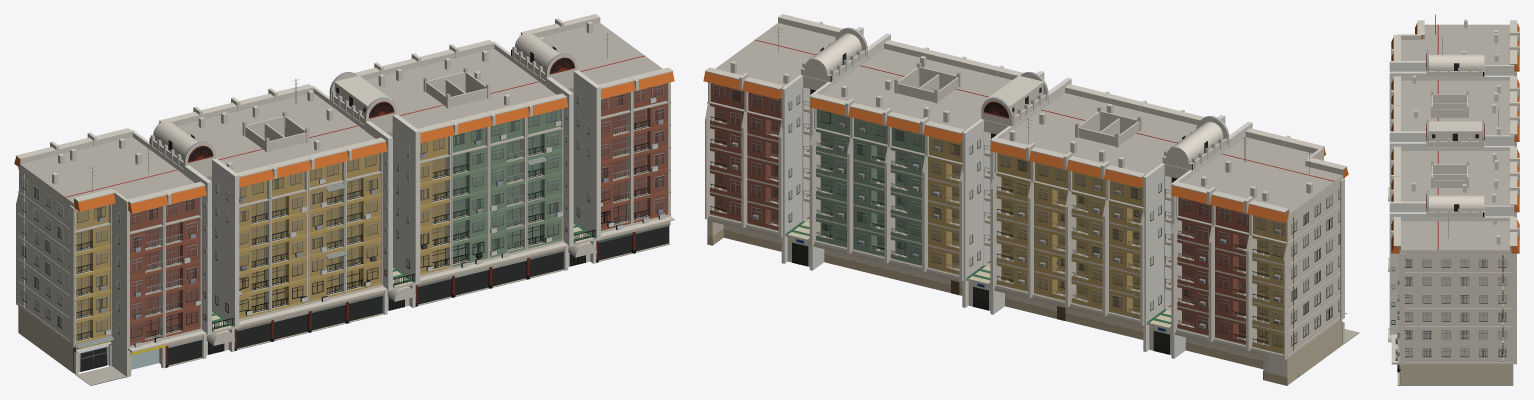
The model's file is SM_Estate_BACK.glb.
3 renders of one model, left to right at view 1: azimuth 30°, elevation 25°; view 2: azimuth 150°, elevation 25°; view 3: azimuth 270°, elevation 25°, orthographic. The views are drawn at different scales.
Parts seen in each view (by area): view 1: SM_Estate_BACK_LM, SM_Estate_BACK_VC, SM_Estate_BACK_NB; view 2: SM_Estate_BACK_LM, SM_Estate_BACK_VC, SM_Estate_BACK_NB; view 3: SM_Estate_BACK_LM, SM_Estate_BACK_VC, SM_Estate_BACK_NB.
Boxes of the visible parts, x1=… form: SM_Estate_BACK_LM: x1=14, y1=14, x2=674, y2=385; SM_Estate_BACK_VC: x1=16, y1=32, x2=670, y2=385; SM_Estate_BACK_NB: x1=23, y1=86, x2=663, y2=370; SM_Estate_BACK_LM: x1=703, y1=14, x2=1359, y2=385; SM_Estate_BACK_VC: x1=707, y1=27, x2=1359, y2=385; SM_Estate_BACK_NB: x1=714, y1=86, x2=1339, y2=345; SM_Estate_BACK_LM: x1=1388, y1=19, x2=1519, y2=385; SM_Estate_BACK_VC: x1=1391, y1=14, x2=1517, y2=385; SM_Estate_BACK_NB: x1=1392, y1=260, x2=1505, y2=355.
Size of the model in its own units: 78.9 by 25.74 by 19.38.
